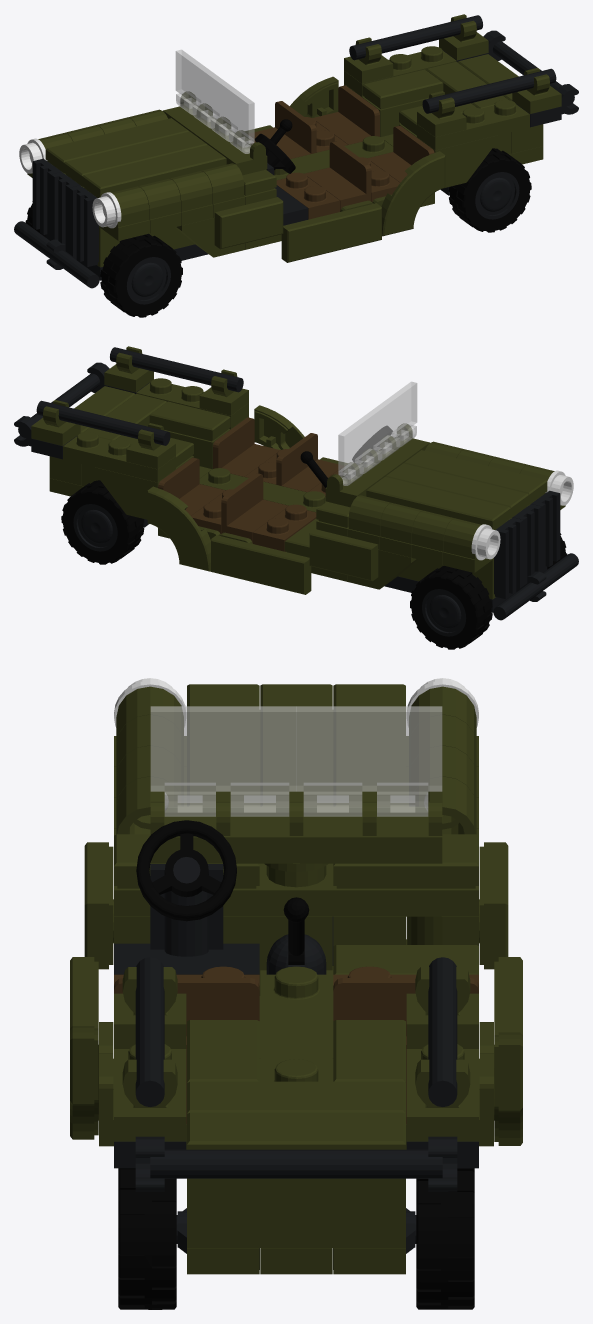
The model's file is Jeep Willys MB.dae.
The picture shows the model from 3 angles, top to bottom: view 1: azimuth 30°, elevation 25°; view 2: azimuth 150°, elevation 25°; view 3: azimuth 270°, elevation 25°; orthographic projection. The views are drawn at different scales.
Parts seen in each view (by area): view 1: Part.41, Part.88, Part.96, Part.24, Part.95, Part.31, Part.81, Part.47, Part.60, Part.25, Part.26, Part.28 (+43 smaller); view 2: Part.41, Part.87, Part.94, Part.25, Part.93, Part.32, Part.81, Part.48, Part.59, Part.24, Part.26, Part.27 (+42 smaller); view 3: Part.41, Part.56, Part.81, Part.24, Part.25, Part.26, Part.46, Part.89, Part.86, Part.97, Part.93, Part.95 (+46 smaller).
Part boxes in pixels (x1,y1,x2,y2): Part.41: (175, 49, 254, 153); Part.88: (281, 203, 381, 262); Part.96: (100, 233, 182, 317); Part.24: (82, 145, 226, 197); Part.95: (448, 148, 531, 232); Part.31: (381, 151, 445, 236); Part.81: (163, 92, 267, 175); Part.47: (214, 197, 283, 249); Part.60: (417, 100, 529, 150); Part.25: (45, 118, 189, 173); Part.26: (63, 131, 207, 186); Part.28: (304, 141, 371, 211); Part.41: (338, 381, 417, 485); Part.87: (211, 535, 311, 594); Part.94: (410, 566, 492, 649); Part.25: (366, 477, 510, 529); Part.93: (61, 480, 144, 564); Part.32: (147, 486, 210, 571); Part.81: (325, 424, 429, 507); Part.48: (309, 529, 378, 581); Part.59: (63, 432, 175, 482); Part.24: (403, 450, 547, 505); Part.26: (385, 463, 529, 518); Part.27: (221, 473, 288, 543); Part.41: (150, 706, 442, 816); Part.56: (187, 1178, 405, 1247); Part.81: (150, 801, 442, 863); Part.24: (187, 684, 259, 806); Part.25: (333, 684, 405, 806); Part.26: (260, 684, 332, 806); Part.46: (150, 1149, 442, 1178); Part.89: (114, 863, 478, 916); Part.86: (187, 1112, 405, 1149); Part.97: (260, 966, 332, 1081); Part.93: (416, 1168, 474, 1309); Part.95: (118, 1168, 176, 1309).
Size of the model in its own units: 123 by 43.56 by 49.56.
